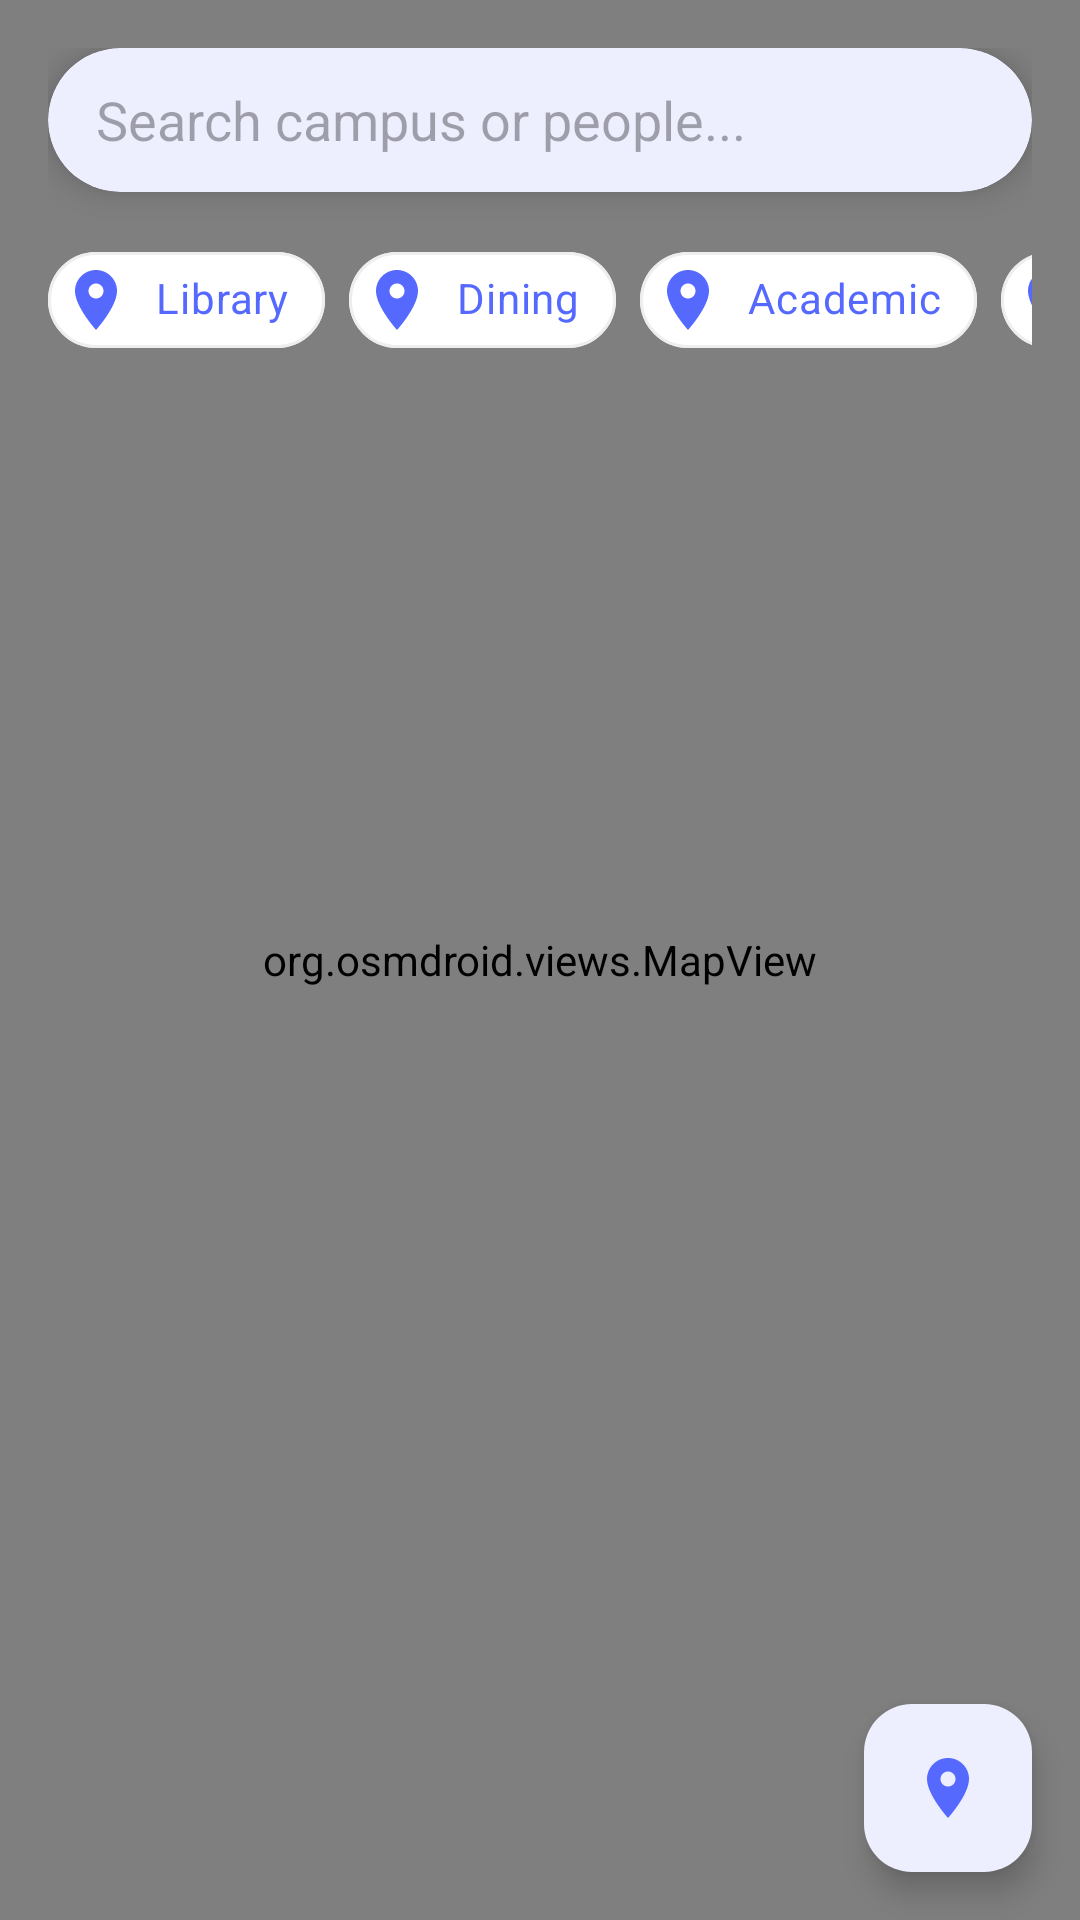

Named icons in this screenshot (1080px×1920px) and their bounding boxes, (x1=x1, y1=y1, x2=x2, y2=y2):
Center Map: (x1=864, y1=1704, x2=1032, y2=1872)
